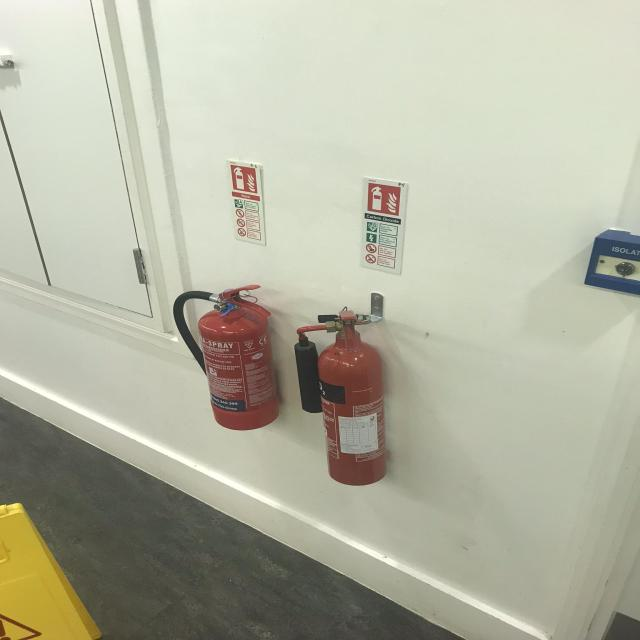fire_extinguisher: (290, 306, 392, 488), (168, 280, 283, 432)
